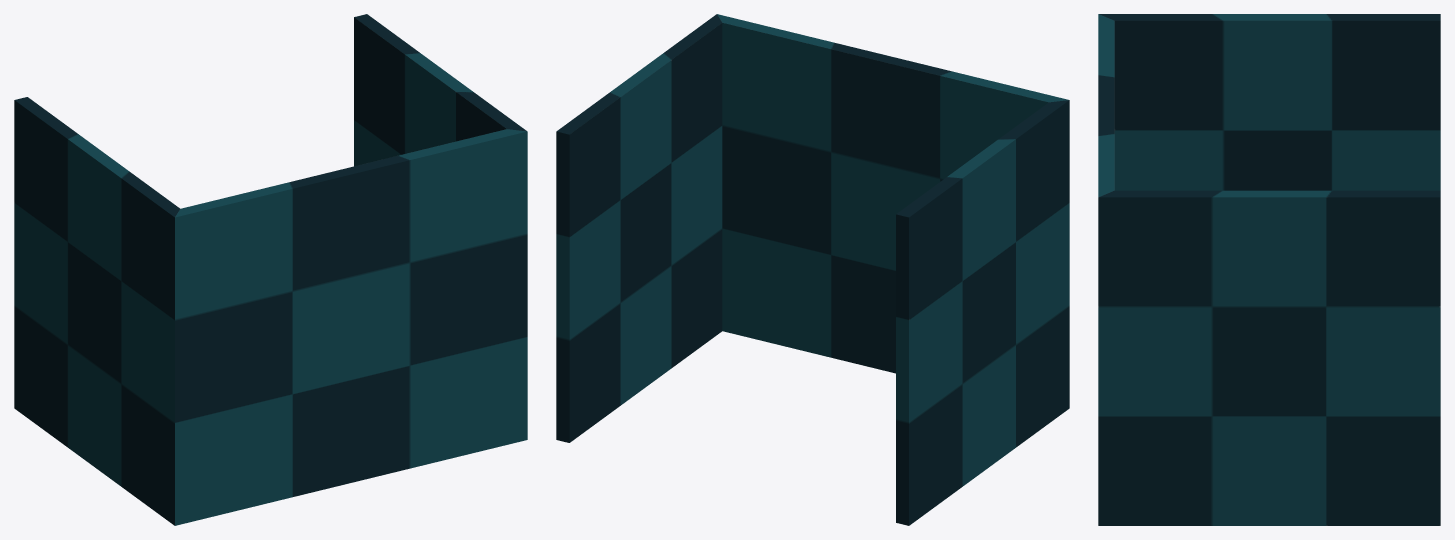
File: Wall.obj
3 views of the same model, side by side, from view 1: azimuth 30°, elevation 25°; view 2: azimuth 150°, elevation 25°; view 3: azimuth 270°, elevation 25° (orthographic). The views are drawn at different scales.
Visible parts, largest first — view 1: Wall; view 2: Wall; view 3: Wall.
Part boxes in pixels (bbox=[...]): Wall: bbox=[14, 14, 527, 525]; Wall: bbox=[556, 14, 1069, 525]; Wall: bbox=[1098, 14, 1440, 525].
Bounding box in the file's own units: 60.5 × 50.57 × 47.7.
Materials: 1 (1 with a texture image).
